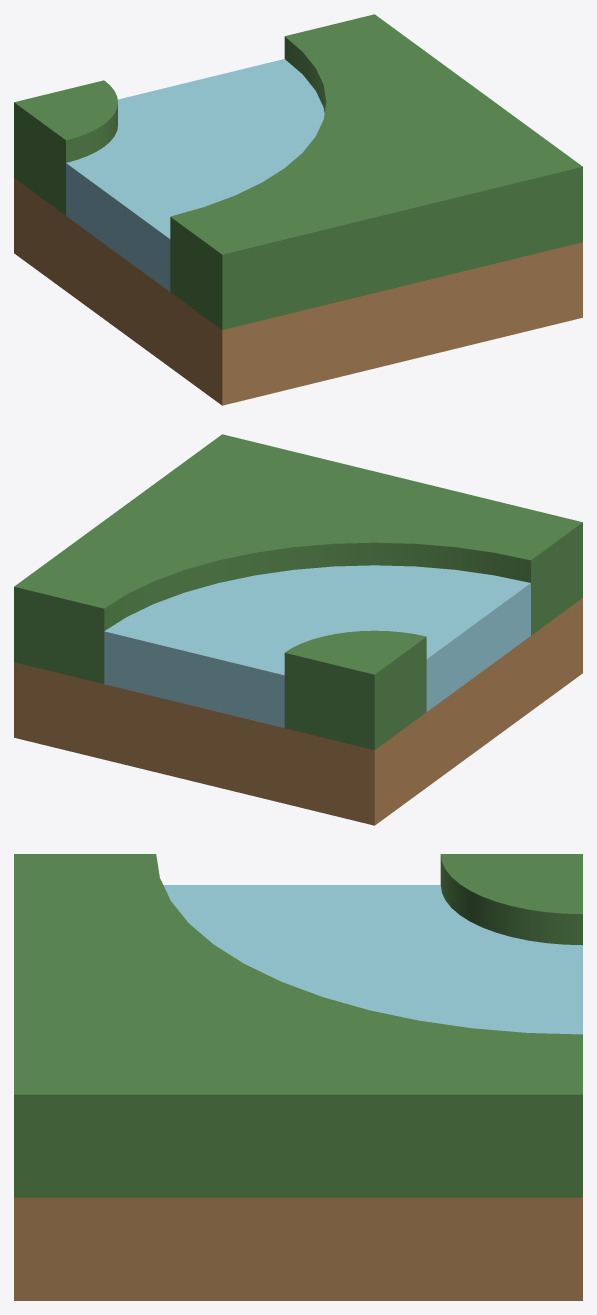
Rendered from towerDefense_085.obj.
The picture shows the model from 3 angles, top to bottom: view 1: azimuth 30°, elevation 25°; view 2: azimuth 150°, elevation 25°; view 3: azimuth 270°, elevation 25°; orthographic projection. The views are drawn at different scales.
Visible parts, largest first — view 1: Mesh1 Group1 Model; view 2: Mesh1 Group1 Model; view 3: Mesh1 Group1 Model.
Boxes of the visible parts, <box> form: Mesh1 Group1 Model: <box>14,14,582,405</box>; Mesh1 Group1 Model: <box>14,434,582,825</box>; Mesh1 Group1 Model: <box>14,854,582,1300</box>.
Size of the model in its own units: 1 by 0.4 by 1.
